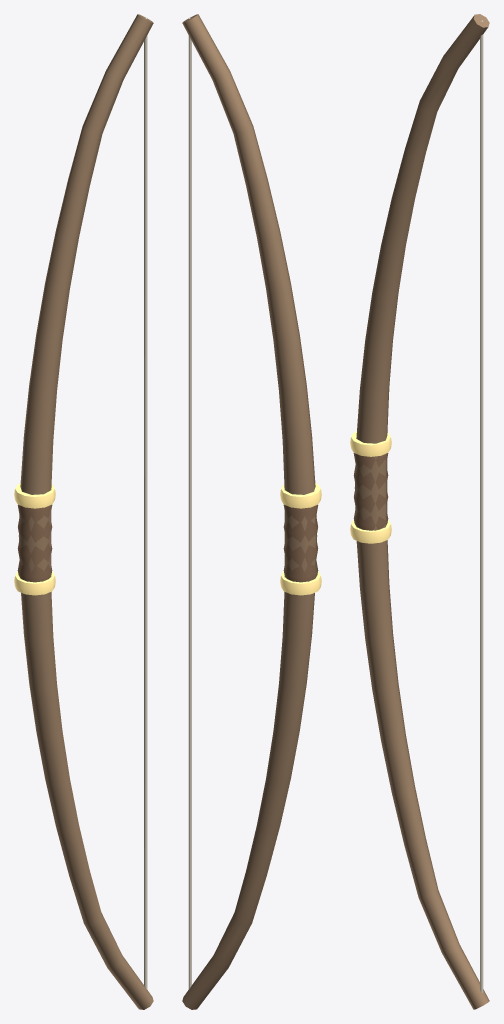
File: bow.glb
The picture shows the model from 3 angles, left to right: view 1: azimuth 30°, elevation 25°; view 2: azimuth 150°, elevation 25°; view 3: azimuth 330°, elevation 25°; orthographic projection.
Visible parts, largest first — view 1: W-bow; view 2: W-bow; view 3: W-bow.
Boxes of the visible parts, bbox=[...] form: W-bow: bbox=[14, 14, 153, 1009]; W-bow: bbox=[182, 14, 321, 1009]; W-bow: bbox=[350, 14, 489, 1009].
Bounding box in the file's own units: 0.1957 × 1.37 × 0.052.
